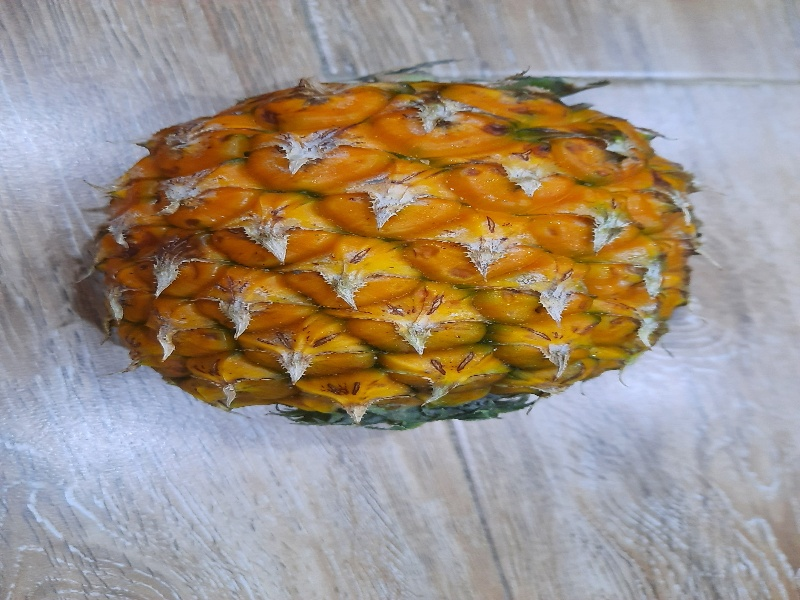fruit: (103, 71, 700, 438)
